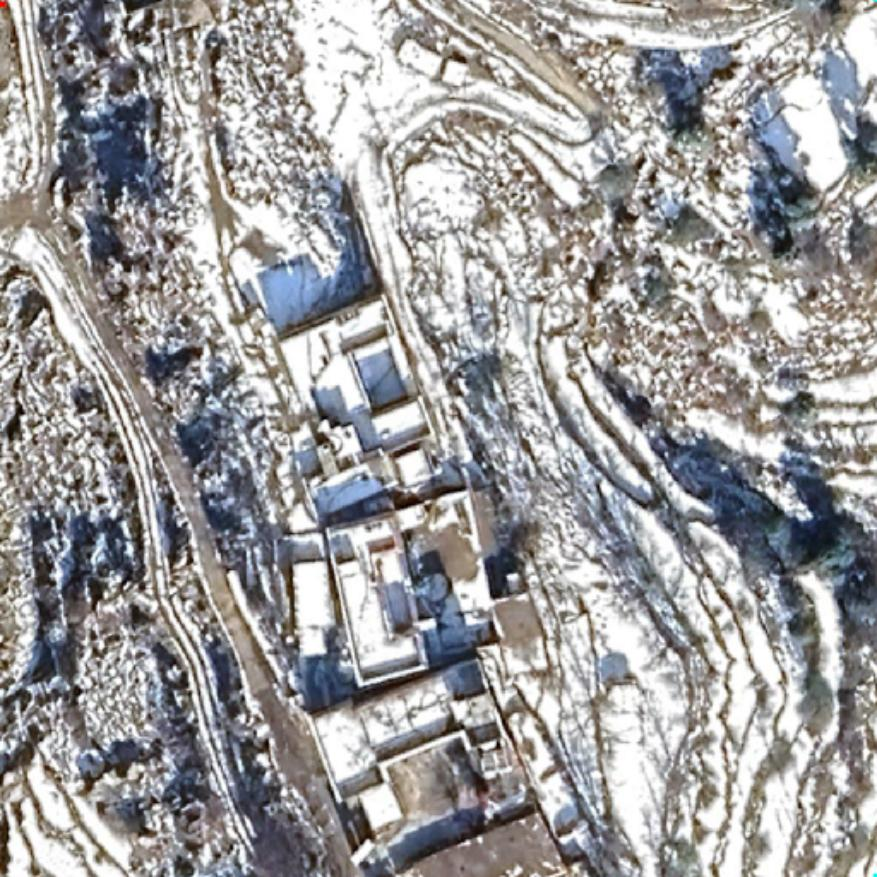Solarpanel: (475, 744, 513, 780)
